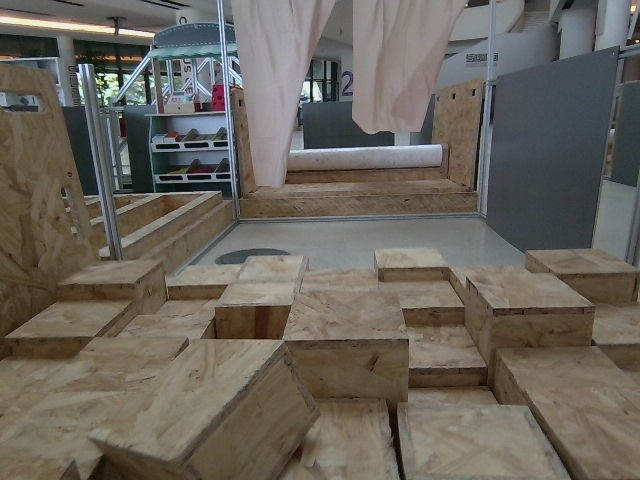curtain: (243, 0, 448, 192)
